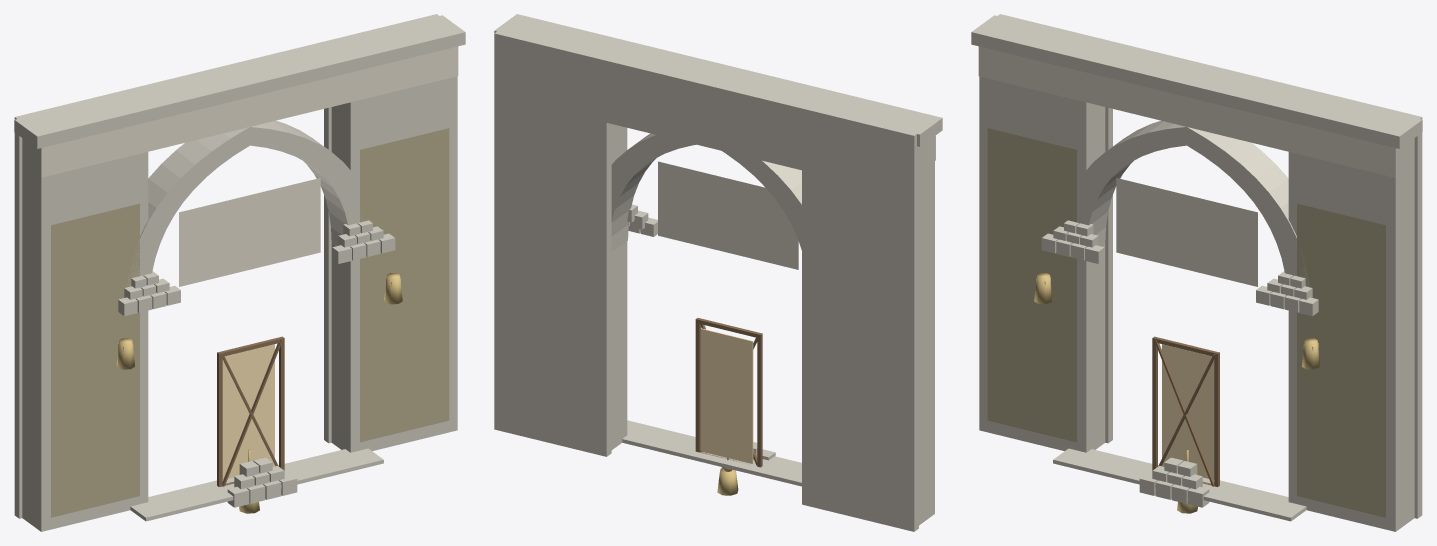
File: islamic.glb
3 views of the same model, side by side, from view 1: azimuth 30°, elevation 25°; view 2: azimuth 150°, elevation 25°; view 3: azimuth 330°, elevation 25° (orthographic).
Visible parts, largest first — view 1: Zellij_pilL, Zellij_pilR, Stucco_shoulderL, Stucco_shoulderR, Stucco_cornice, Arabesque_frieze, Arabesque_tymp, Stucco_arch, Glow_mashback, Stucco_threshold, Stucco_backL, Stucco_backR (+3 smaller); view 2: Stucco_backR, Stucco_backL, Stucco_backHdr, Arabesque_tymp, Stucco_cornice, Glow_mashback, Stucco_shoulderL, Stucco_arch, Stucco_shoulderR, Stucco_threshold, Wood_mashframe_L, Wood_mashframe_R; view 3: Zellij_pilR, Zellij_pilL, Stucco_shoulderR, Stucco_shoulderL, Stucco_cornice, Arabesque_frieze, Arabesque_tymp, Stucco_arch, Glow_mashback, Stucco_threshold, Stucco_backR, Stucco_backL (+3 smaller).
Part boxes in pixels (x1=…): Zellij_pilL: x1=51, y1=203, x2=139, y2=517; Zellij_pilR: x1=360, y1=128, x2=449, y2=442; Stucco_shoulderL: x1=22, y1=145, x2=148, y2=531; Stucco_shoulderR: x1=331, y1=76, x2=457, y2=452; Stucco_cornice: x1=14, y1=15, x2=465, y2=148; Arabesque_frieze: x1=42, y1=46, x2=458, y2=177; Arabesque_tymp: x1=179, y1=178, x2=320, y2=286; Stucco_arch: x1=128, y1=120, x2=369, y2=285; Glow_mashback: x1=222, y1=344, x2=274, y2=479; Stucco_threshold: x1=130, y1=448, x2=383, y2=521; Stucco_backL: x1=14, y1=89, x2=131, y2=518; Stucco_backR: x1=324, y1=14, x2=441, y2=443; Stucco_backR: x1=494, y1=30, x2=611, y2=456; Stucco_backL: x1=802, y1=105, x2=918, y2=531; Stucco_backHdr: x1=598, y1=55, x2=814, y2=172; Arabesque_tymp: x1=658, y1=161, x2=798, y2=269; Stucco_cornice: x1=494, y1=14, x2=942, y2=146; Glow_mashback: x1=700, y1=328, x2=753, y2=463; Stucco_shoulderL: x1=919, y1=143, x2=934, y2=525; Stucco_arch: x1=611, y1=133, x2=801, y2=251; Stucco_shoulderR: x1=611, y1=124, x2=627, y2=449; Stucco_threshold: x1=622, y1=420, x2=801, y2=486; Wood_mashframe_L: x1=757, y1=332, x2=762, y2=467; Wood_mashframe_R: x1=695, y1=318, x2=701, y2=452; Zellij_pilR: x1=1297, y1=203, x2=1385, y2=517; Zellij_pilL: x1=987, y1=128, x2=1076, y2=442; Stucco_shoulderR: x1=1288, y1=145, x2=1414, y2=531; Stucco_shoulderL: x1=979, y1=76, x2=1105, y2=452; Stucco_cornice: x1=971, y1=15, x2=1422, y2=148; Arabesque_frieze: x1=978, y1=46, x2=1394, y2=177; Arabesque_tymp: x1=1116, y1=178, x2=1257, y2=286; Stucco_arch: x1=1064, y1=120, x2=1309, y2=287; Glow_mashback: x1=1162, y1=344, x2=1214, y2=479; Stucco_threshold: x1=1053, y1=448, x2=1306, y2=521; Stucco_backR: x1=1305, y1=90, x2=1422, y2=518; Stucco_backL: x1=995, y1=14, x2=1112, y2=443.
Bounding box in the file's own units: 7.2 × 6.85 × 1.17.
